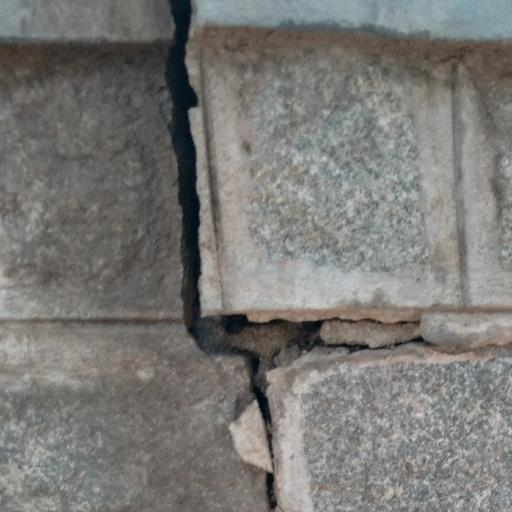major_crack: (154, 0, 442, 512)
